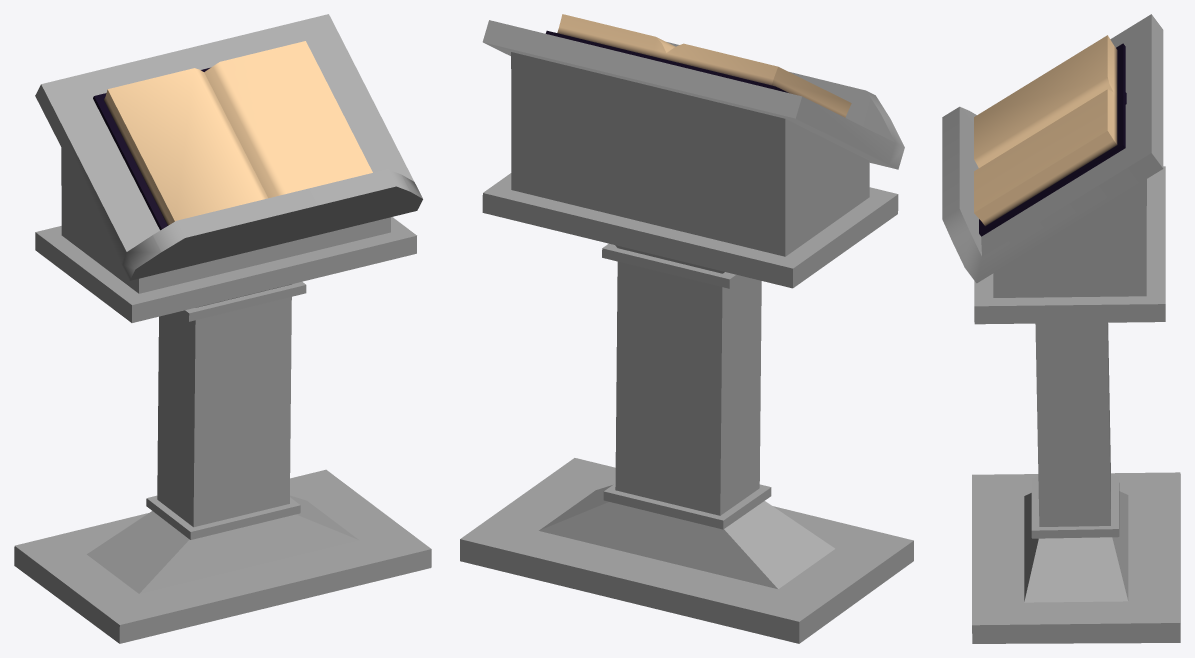
File: BookStand.fbx
3 views of the same model, side by side, from view 1: azimuth 30°, elevation 25°; view 2: azimuth 150°, elevation 25°; view 3: azimuth 270°, elevation 25° (orthographic). The views are drawn at different scales.
Parts seen in each view (by area): view 1: Stand, Book; view 2: Stand, Book; view 3: Stand, Book.
Part boxes in pixels (x1,y1,x2,y2): Stand: (14,14,431,643); Book: (93,41,372,230); Stand: (460,20,913,643); Book: (545,14,851,117); Stand: (942,14,1180,643); Book: (974,35,1126,236).
Bounding box in the file's own units: 1.3 × 1.96 × 0.8724.
